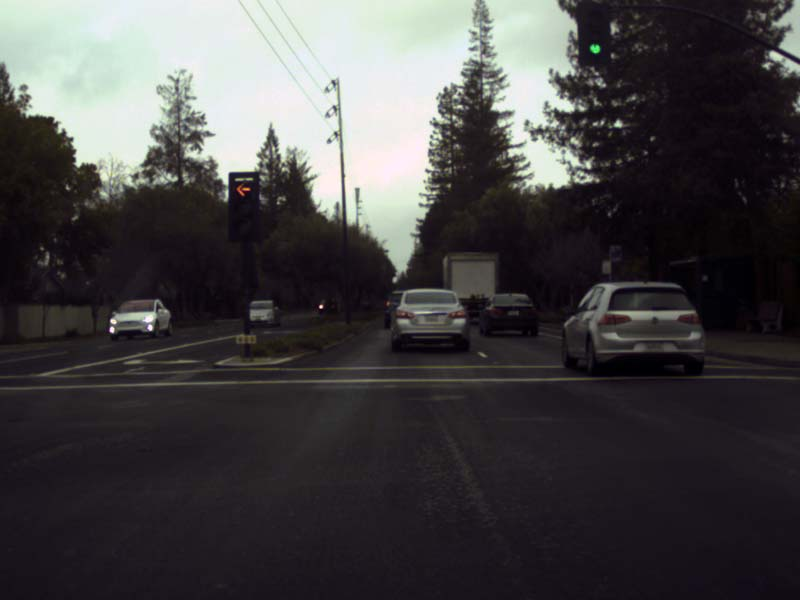Green: (577, 2, 609, 64)
Red: (229, 172, 261, 240)
